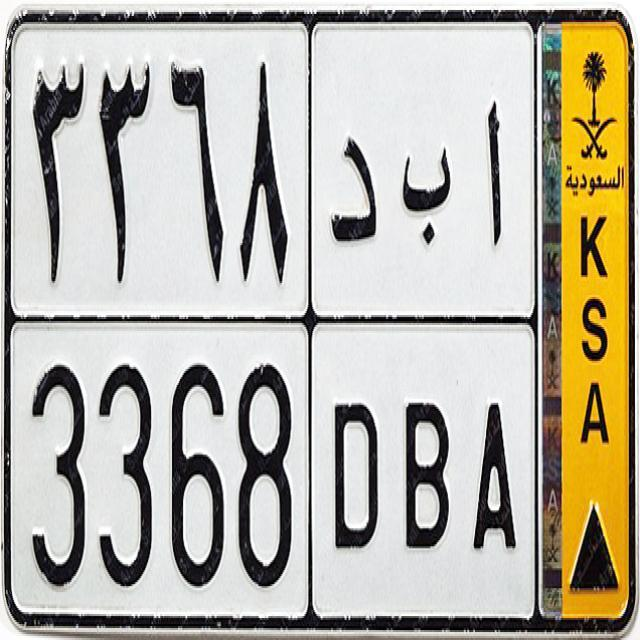license_plate: (4, 309, 539, 625)
